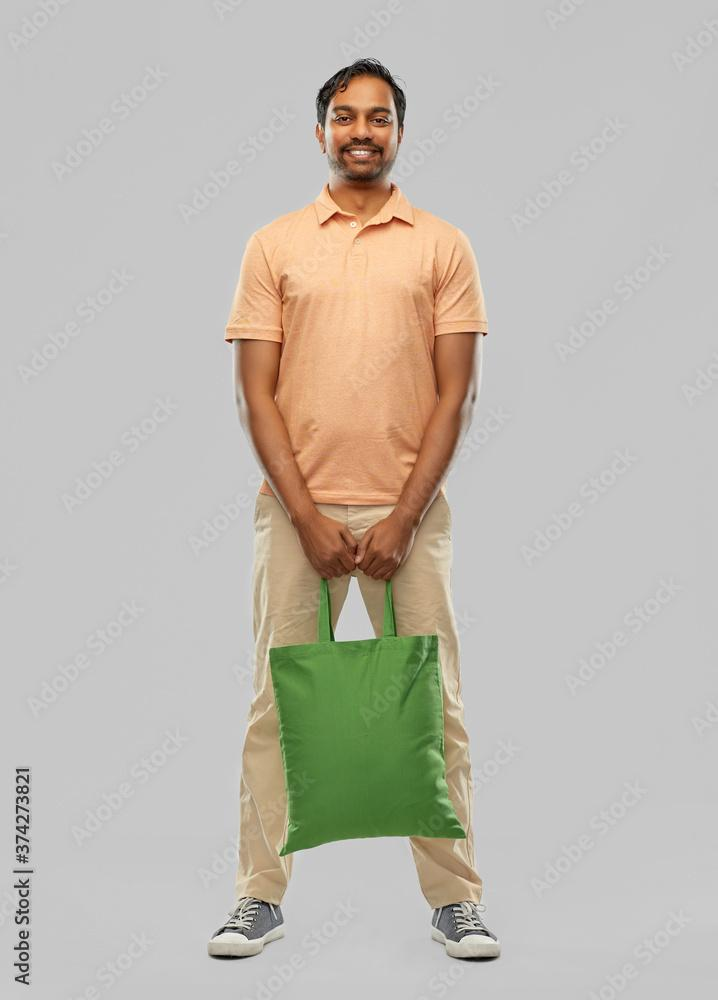Human: (154, 51, 552, 934)
